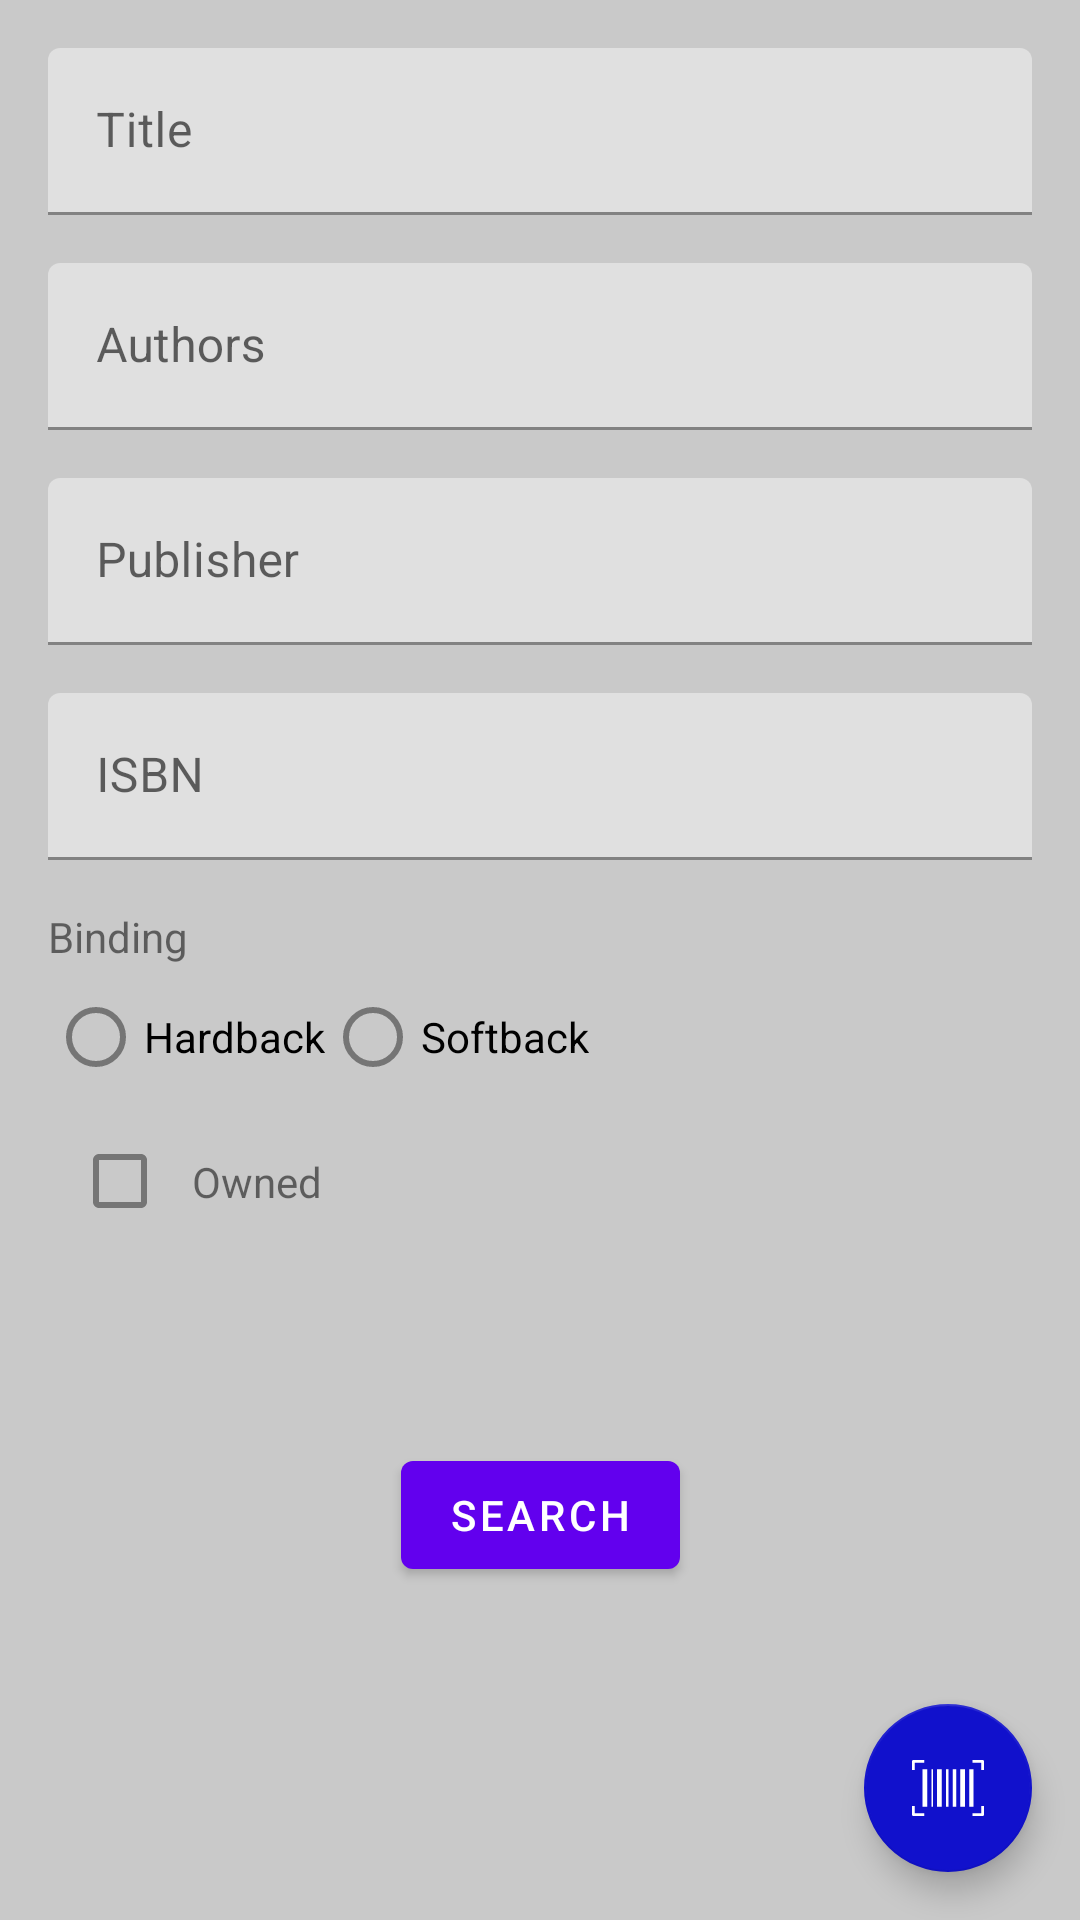

Icon click points for this 1080w x 1920h phone screenshot, format [x,y]:
barcode scan: [948,1788]
